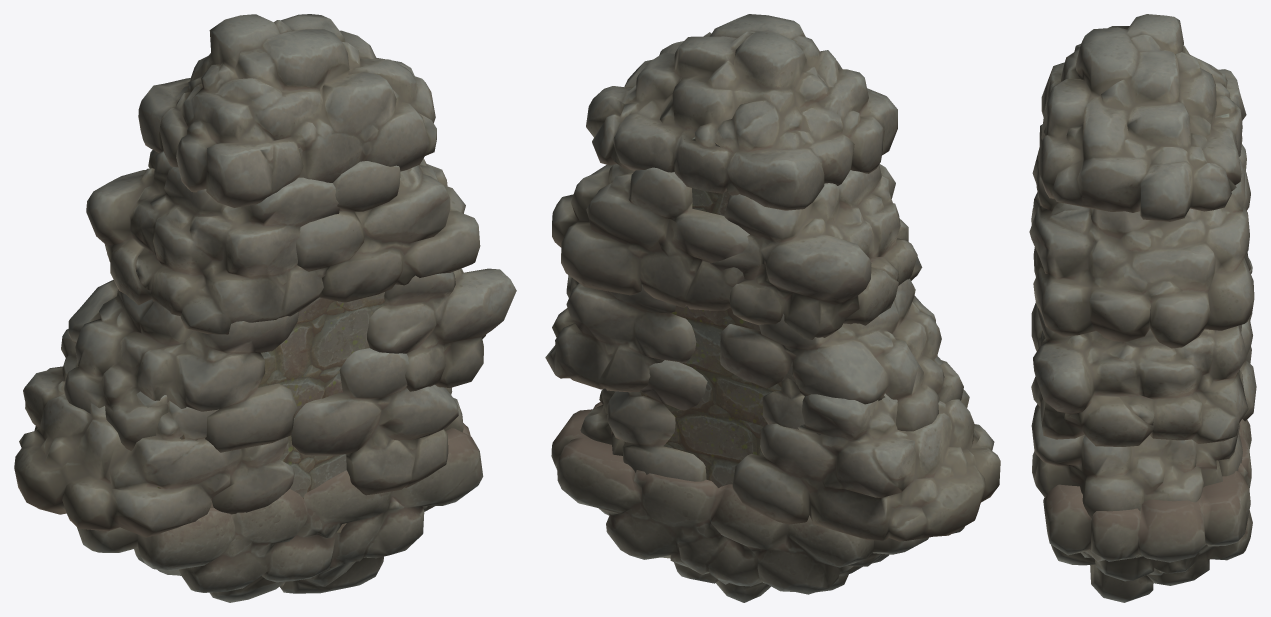
The model's file is MSH_fwOF_Ruins_Wall_Half_Low_Broken_02.fbx.
3 views of the same model, side by side, from view 1: azimuth 30°, elevation 25°; view 2: azimuth 150°, elevation 25°; view 3: azimuth 270°, elevation 25° (orthographic). The views are drawn at different scales.
Parts seen in each view (by area): view 1: MSH_fwOF_Ruins_Wall_Half_Low_Broken_02_LOD0, MSH_fwOF_Ruins_Wall_Half_Low_Broken_02_Base; view 2: MSH_fwOF_Ruins_Wall_Half_Low_Broken_02_LOD0, MSH_fwOF_Ruins_Wall_Half_Low_Broken_02_Base; view 3: MSH_fwOF_Ruins_Wall_Half_Low_Broken_02_LOD0.
Part boxes in pixels (x1=…): MSH_fwOF_Ruins_Wall_Half_Low_Broken_02_LOD0: x1=14, y1=14, x2=516, y2=602; MSH_fwOF_Ruins_Wall_Half_Low_Broken_02_Base: x1=157, y1=147, x2=441, y2=532; MSH_fwOF_Ruins_Wall_Half_Low_Broken_02_LOD0: x1=545, y1=14, x2=1000, y2=602; MSH_fwOF_Ruins_Wall_Half_Low_Broken_02_Base: x1=640, y1=137, x2=797, y2=487; MSH_fwOF_Ruins_Wall_Half_Low_Broken_02_LOD0: x1=1029, y1=14, x2=1256, y2=602.
Size of what is drawn, in the model's own units: 2.77 by 3.42 by 1.31.
